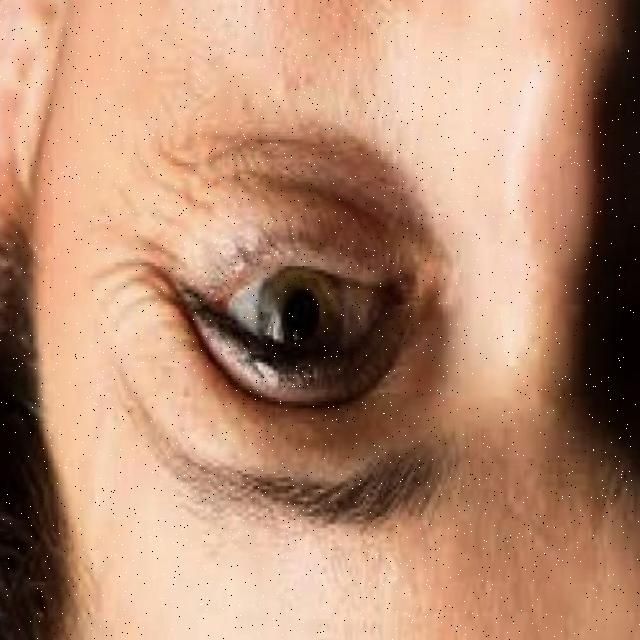puffy_eyes: (175, 170, 411, 258)
